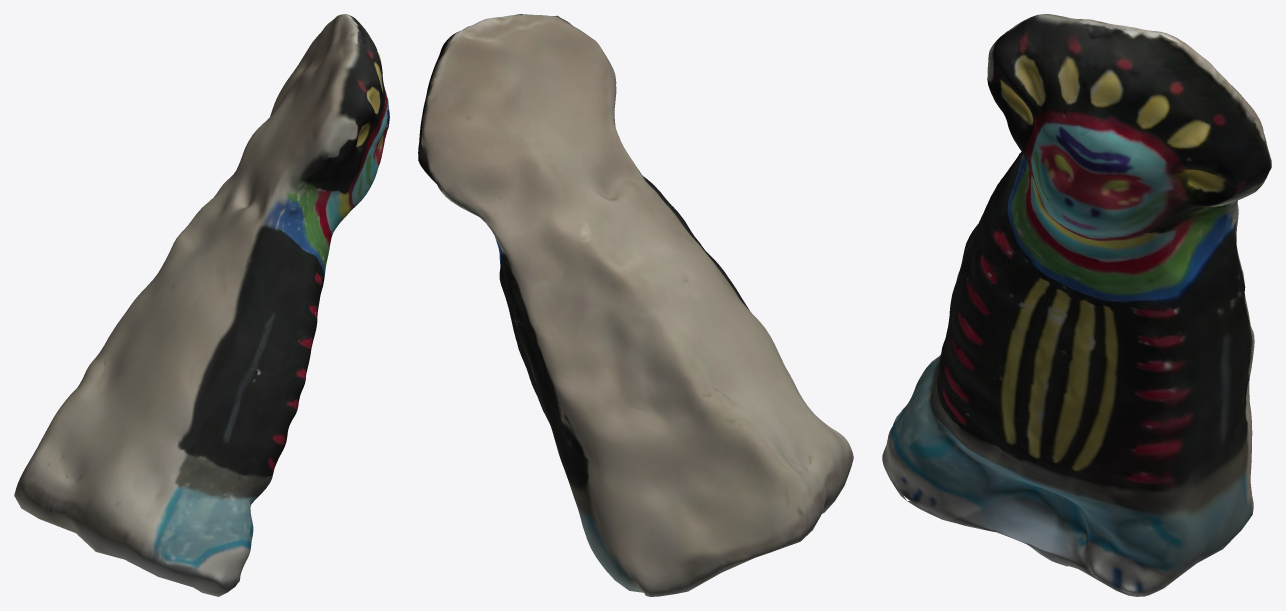
The picture shows the model from 3 angles, left to right: view 1: azimuth 30°, elevation 25°; view 2: azimuth 150°, elevation 25°; view 3: azimuth 270°, elevation 25°; orthographic projection. The views are drawn at different scales.
Bounding box in the file's own units: 0.4519 × 0.6108 × 0.3226.
Materials: 1 (1 with a texture image).
